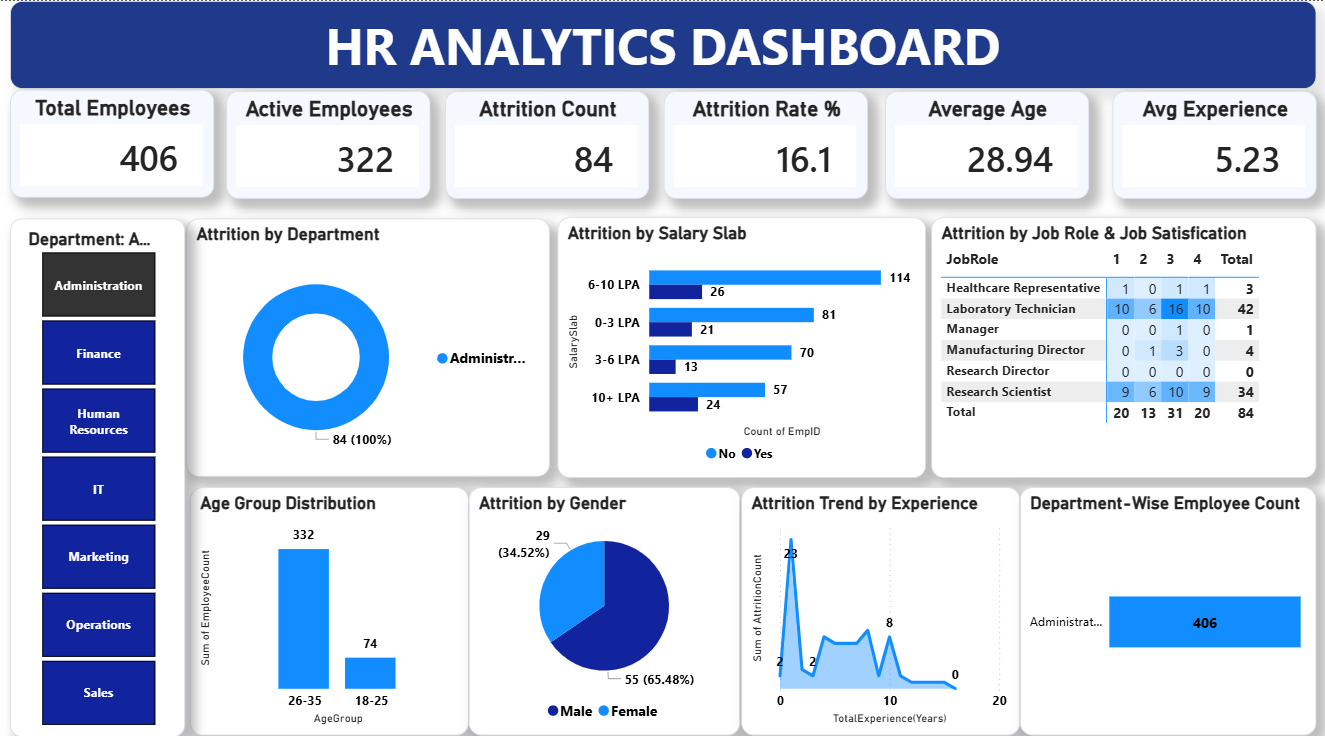

The page's visual inventory and layout, read from the dashboard file:
{"tool":"powerbi","page":{"name":"Page 1","canvas":[1280,720],"ordinal":0},"visuals":[{"type":"textbox","box":[10,0,1259,85],"z":0},{"type":"cardVisual","title":"Total Employees","fields":{"Data":["CountNonNull(HR_Analytics-4.EmpID)"]},"box":[9.8,85.6,196.9,103.9],"z":1000},{"type":"cardVisual","title":"Active Employees","fields":{"Data":["CountNonNull(HR_Analytics-4.EmployeeCount)"]},"box":[217.7,86.8,196.9,103.9],"z":2000},{"type":"cardVisual","title":"Attrition Count","fields":{"Data":["Sum(HR_Analytics-4.AttritionCount)"]},"box":[429.2,86.8,196.9,103.9],"z":3000},{"type":"cardVisual","title":"Attrition Rate %","fields":{"Data":["HR_Analytics-4.Attrition Rate %"]},"box":[639.5,86.8,196.9,103.9],"z":4000},{"type":"cardVisual","title":"Average Age","fields":{"Data":["Avg(HR_Analytics-4.Age)"]},"box":[853.5,86.8,196.9,103.9],"z":5000},{"type":"cardVisual","title":"Avg Experience","fields":{"Data":["Avg(HR_Analytics-4.YearsatCompany)"]},"box":[1072.4,86.8,196.9,103.9],"z":6000},{"type":"donutChart","title":"Attrition by Department","fields":{"Category":["HR_Analytics-4.Department"],"Y":["Sum(HR_Analytics-4.AttritionCount)"]},"box":[179,210,350,249],"z":7000},{"type":"clusteredBarChart","title":"Attrition by Salary Slab","fields":{"Category":["HR_Analytics-4.SalarySlab"],"Y":["CountNonNull(HR_Analytics-4.EmpID)"],"Series":["HR_Analytics-4.Attrition"]},"box":[537,209,355,251],"z":8000},{"type":"pivotTable","title":"Attrition by Job Role & Job Satisfication","fields":{"Rows":["HR_Analytics-4.JobRole"],"Values":["Sum(HR_Analytics-4.AttritionCount)"],"Columns":["HR_Analytics-4.JobSatisfaction"]},"box":[898,209,371,251],"z":9000},{"type":"columnChart","title":"Age Group Distribution","fields":{"Category":["HR_Analytics-4.AgeGroup"],"Y":["Sum(HR_Analytics-4.EmployeeCount)"]},"box":[183.1,469,269,239.4],"z":10000},{"type":"pieChart","title":"Attrition by Gender","fields":{"Category":["HR_Analytics-4.Gender"],"Y":["Sum(HR_Analytics-4.AttritionCount)"]},"box":[452.1,469,262,239.4],"z":11000},{"type":"areaChart","title":"Attrition Trend by Experience","fields":{"Category":["HR_Analytics-4.TotalExperience(Years)"],"Y":["Sum(HR_Analytics-4.AttritionCount)"]},"box":[714.1,469,269,239.4],"z":12000},{"type":"funnel","title":"Department-Wise Employee Count","fields":{"Category":["HR_Analytics-4.Department"],"Y":["CountNonNull(HR_Analytics-4.EmpID)"]},"box":[983.1,469,285.9,239.4],"z":13000},{"type":"slicer","fields":{"Values":["HR_Analytics-4.Department"]},"box":[9.6,209.6,168.7,500],"z":14000}]}

Visuals, with their boxes in screenshot pixels (x1, y1, x2, y2), scaled from the page's 1280x720 canvas onto the 1325x736 screenshot:
textbox: (x1=10, y1=0, x2=1314, y2=87)
"Total Employees" cardVisual: (x1=10, y1=88, x2=214, y2=194)
"Active Employees" cardVisual: (x1=225, y1=89, x2=429, y2=195)
"Attrition Count" cardVisual: (x1=444, y1=89, x2=648, y2=195)
"Attrition Rate %" cardVisual: (x1=662, y1=89, x2=866, y2=195)
"Average Age" cardVisual: (x1=884, y1=89, x2=1087, y2=195)
"Avg Experience" cardVisual: (x1=1110, y1=89, x2=1314, y2=195)
"Attrition by Department" donutChart: (x1=185, y1=215, x2=548, y2=469)
"Attrition by Salary Slab" clusteredBarChart: (x1=556, y1=214, x2=923, y2=470)
"Attrition by Job Role & Job Satisfication" pivotTable: (x1=930, y1=214, x2=1314, y2=470)
"Age Group Distribution" columnChart: (x1=190, y1=479, x2=468, y2=724)
"Attrition by Gender" pieChart: (x1=468, y1=479, x2=739, y2=724)
"Attrition Trend by Experience" areaChart: (x1=739, y1=479, x2=1018, y2=724)
"Department-Wise Employee Count" funnel: (x1=1018, y1=479, x2=1314, y2=724)
slicer - HR_Analytics-4.Department: (x1=10, y1=214, x2=185, y2=725)
